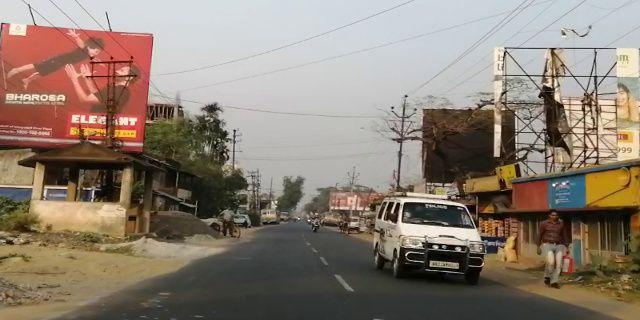Van: (360, 188, 488, 284)
